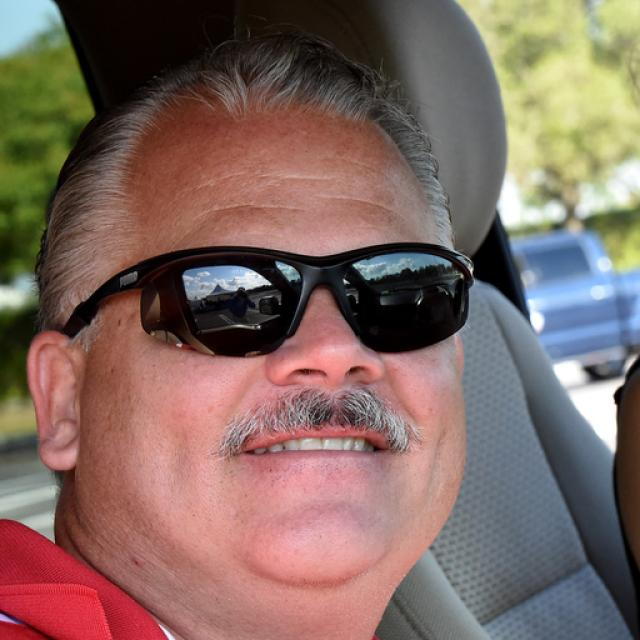Pigmentation: (316, 143, 410, 241), (191, 149, 295, 230)
Wrinkle: (203, 162, 344, 191), (196, 190, 313, 223), (317, 140, 397, 182), (317, 191, 398, 220)
